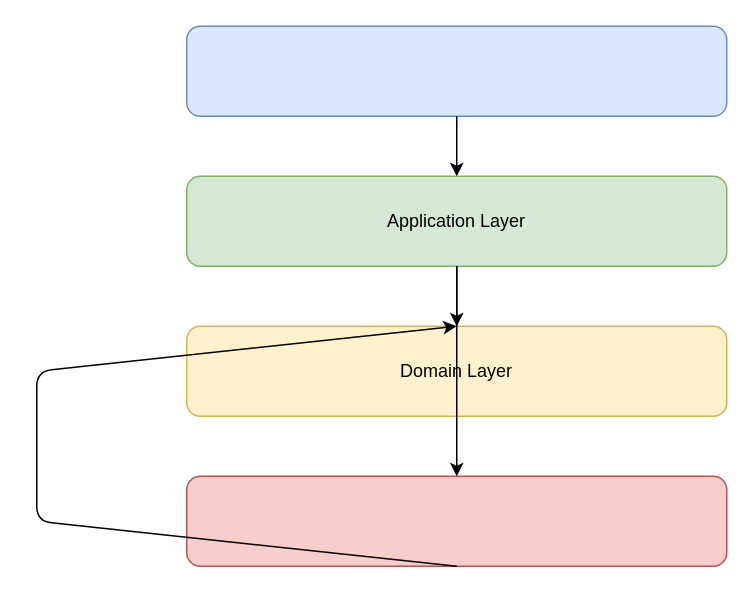
This 753x605 diagram has some shape labels left out. Each missing label, with the box of its shape:
API Layer: (185, 25, 727, 116)
Infrastructure Layer: (185, 475, 727, 566)
